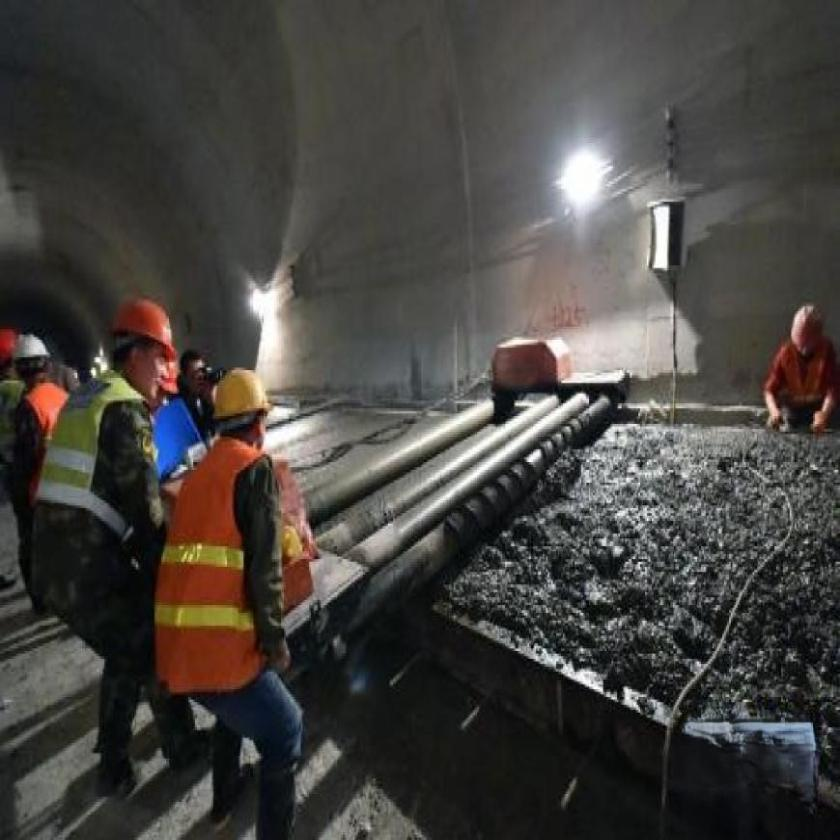Con_casco: (105, 290, 175, 392), (210, 359, 272, 462)
